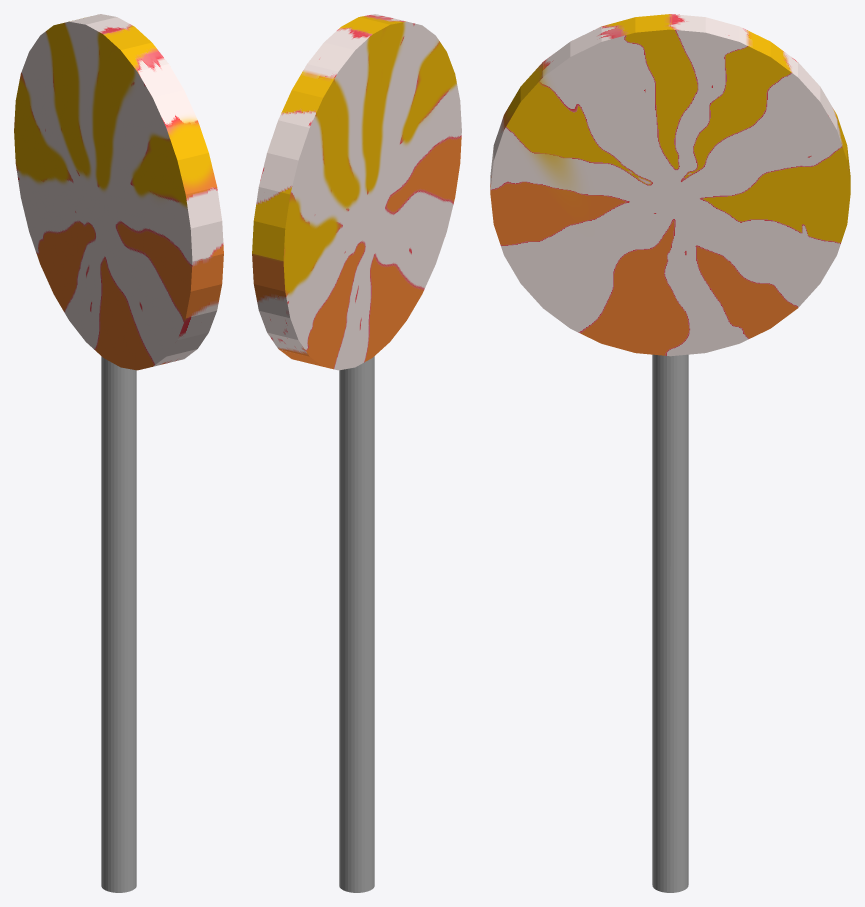
The model's file is lolipop5st.fbx.
3 renders of one model, left to right at view 1: azimuth 30°, elevation 25°; view 2: azimuth 150°, elevation 25°; view 3: azimuth 270°, elevation 25°, orthographic.
Parts seen in each view (by area): view 1: Cylinder.001, Cylinder; view 2: Cylinder.001, Cylinder; view 3: Cylinder.001, Cylinder.
Boxes of the visible parts, bbox=[...] form: Cylinder.001: bbox=[14, 14, 223, 370]; Cylinder: bbox=[101, 356, 136, 892]; Cylinder.001: bbox=[252, 14, 461, 370]; Cylinder: bbox=[339, 356, 374, 892]; Cylinder.001: bbox=[490, 14, 850, 356]; Cylinder: bbox=[652, 354, 688, 892].
Bounding box in the file's own units: 204 × 5286 × 2000.
2 materials, 1 textured.
